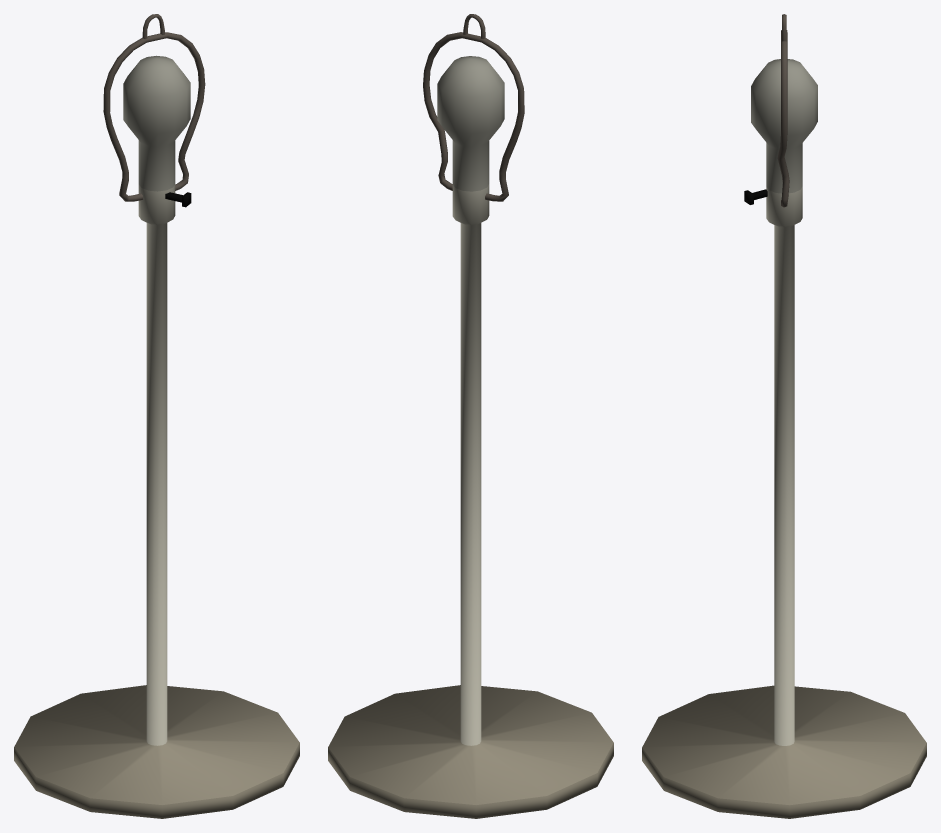
The picture shows the model from 3 angles, left to right: view 1: azimuth 30°, elevation 25°; view 2: azimuth 150°, elevation 25°; view 3: azimuth 270°, elevation 25°; orthographic projection.
Visible parts, largest first — view 1: base.065; view 2: base.065; view 3: base.065.
Boxes of the visible parts, box(x1,y1,x2,y2) form: base.065: box(14, 14, 299, 818); base.065: box(328, 14, 613, 818); base.065: box(642, 14, 926, 818).
Size of the model in its own units: 0.1738 by 0.5 by 0.1738.
